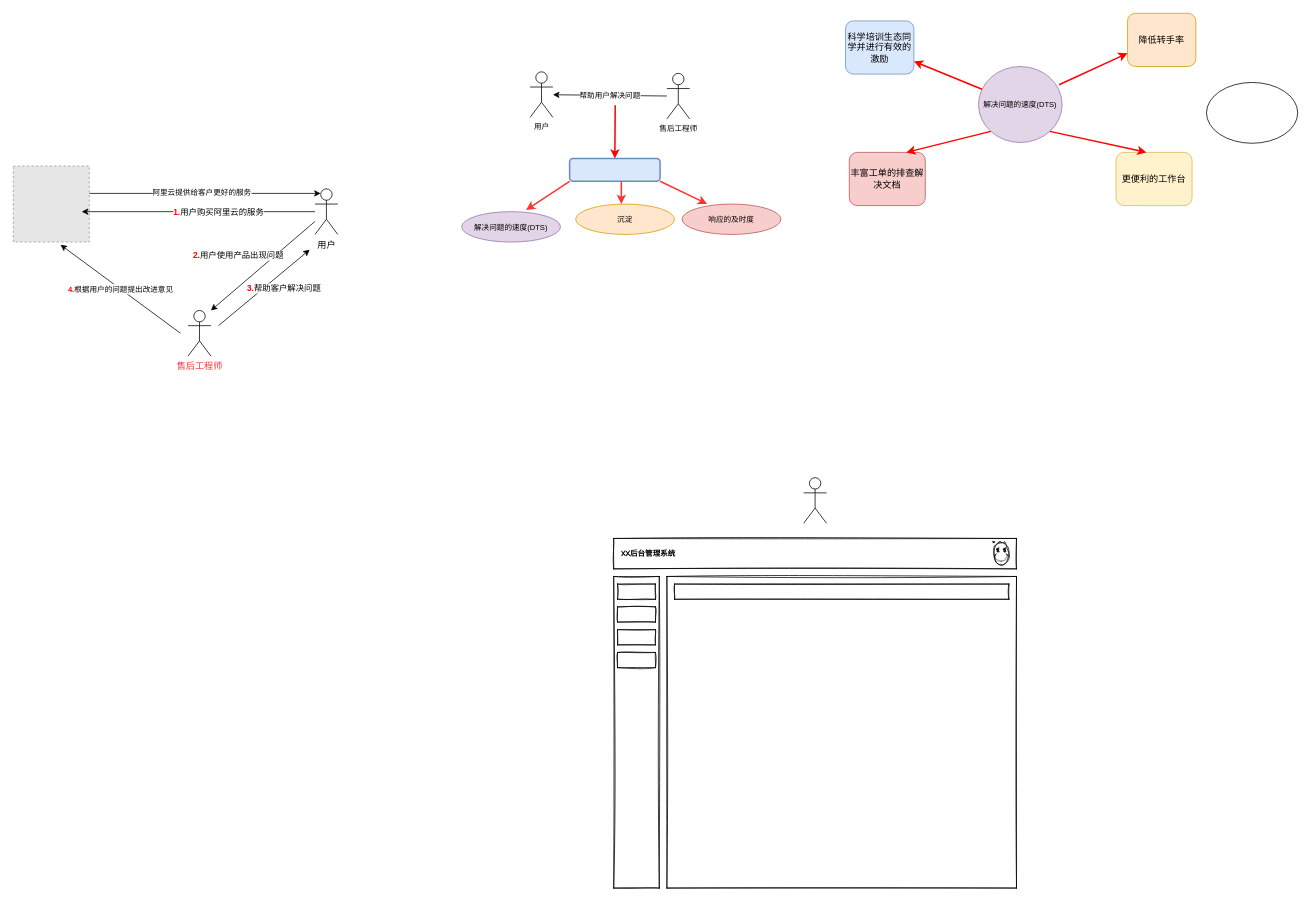
Image size: 1311x901. Some labels were removed from this diagram. Grey dashed boxes stand in for pictures. The centre of each missing label's shape, as x and y in pixels:
"Actor" belongs at (x=814, y=500).
"用户体验" belongs at (x=614, y=169).
"系统管理>人员组织>人员列表" belongs at (x=841, y=591).
